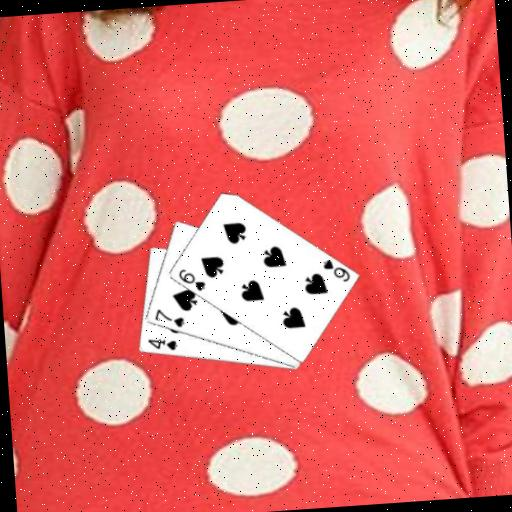4S: (144, 335, 179, 354)
6S: (175, 265, 207, 295), (319, 255, 351, 285)
7S: (151, 305, 187, 331)
